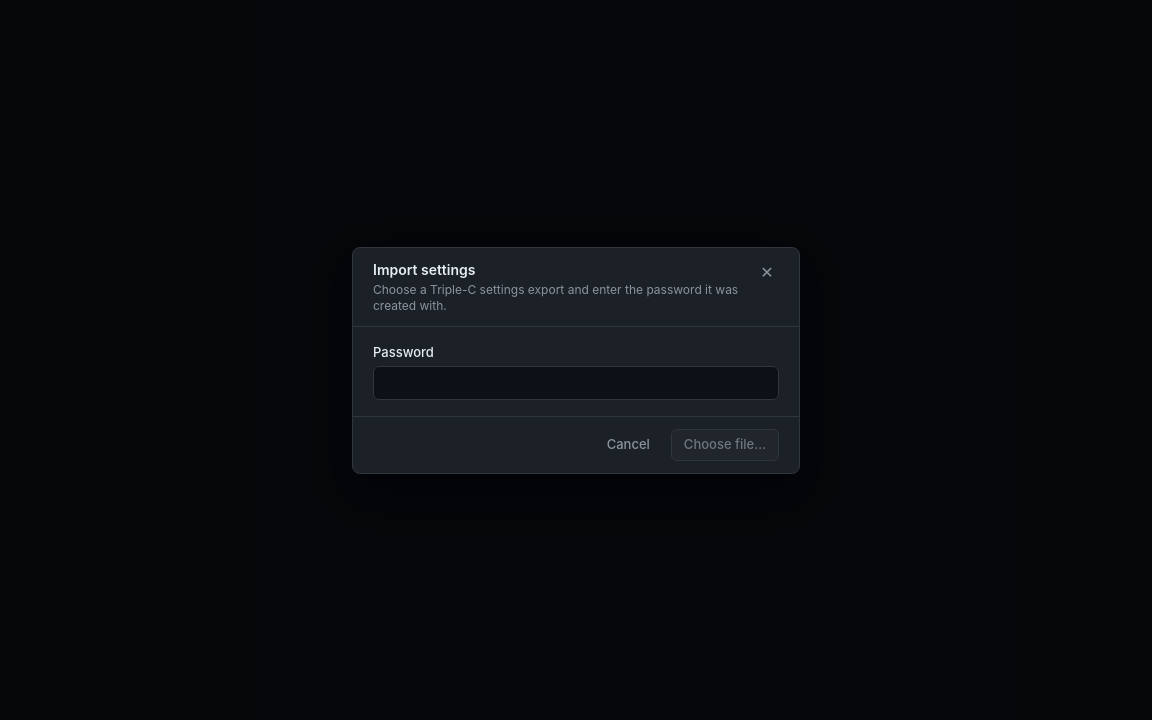
Scenario: ImportSettingsModal › shows a distinct warning when the import would enable the web terminal
Type "hunter2" into the password field labelled "Password" at coordinates (576, 383), box [373,366,779,400]
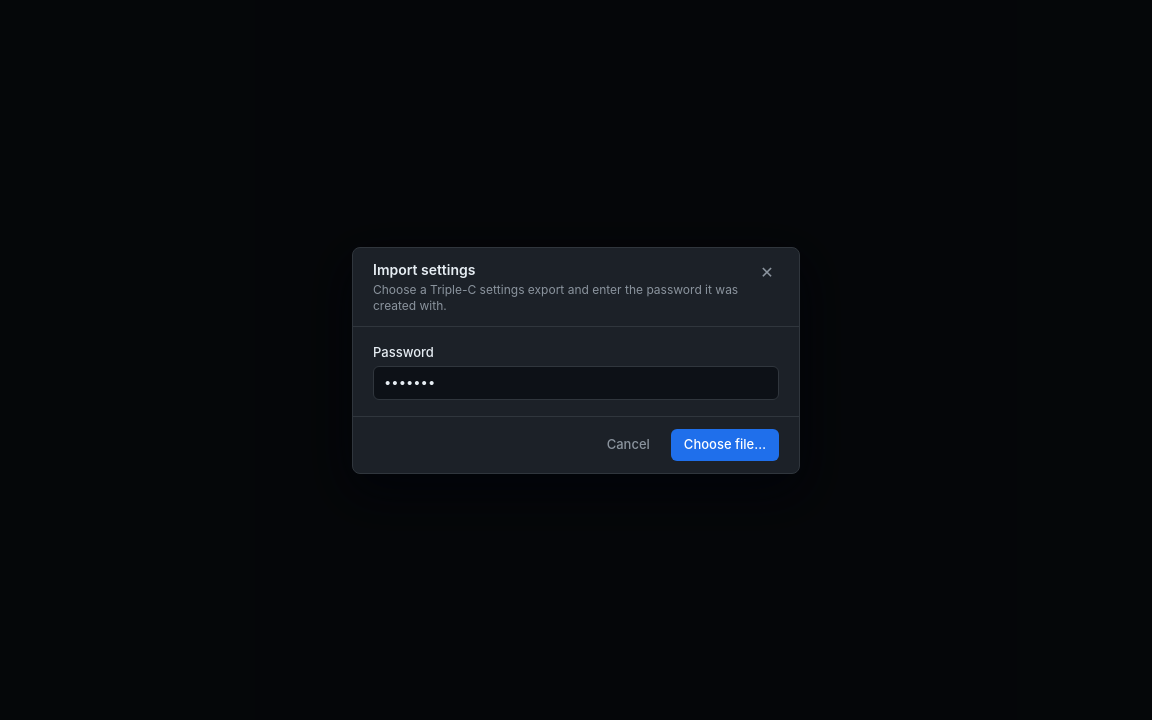
Click the button "Choose file…" at coordinates (725, 444), box [671,428,779,460]
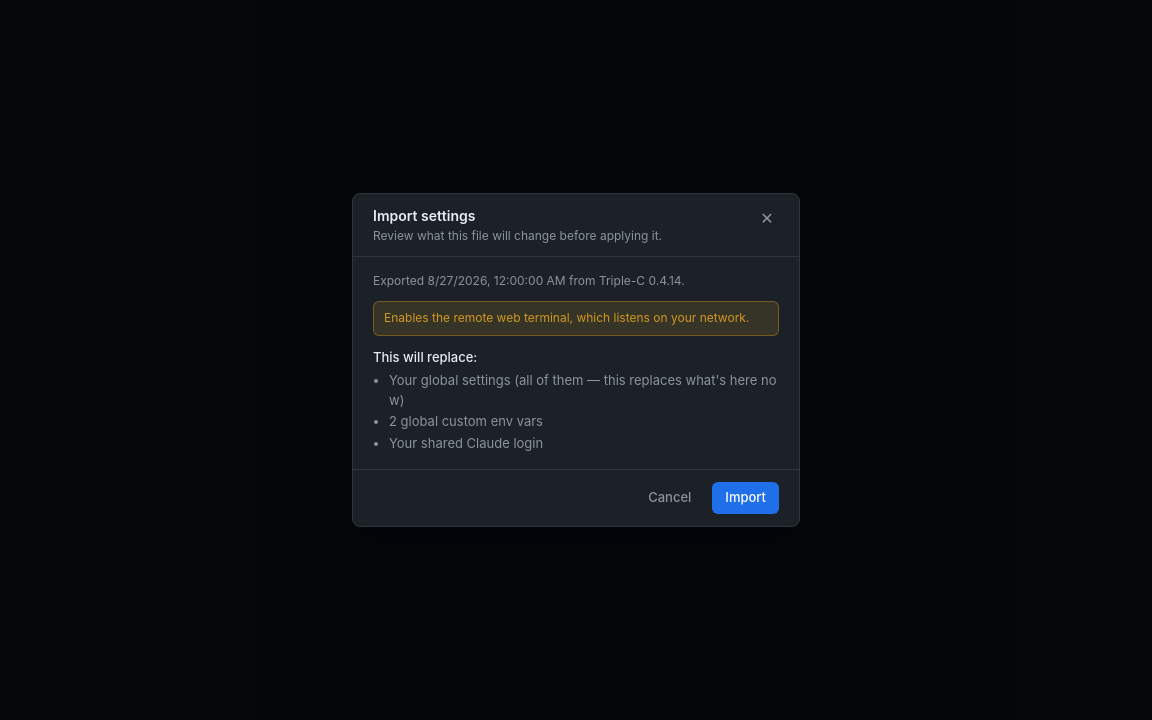
Expected: the text "Enables the remote web terminal" is shown, [384,310,749,325]
